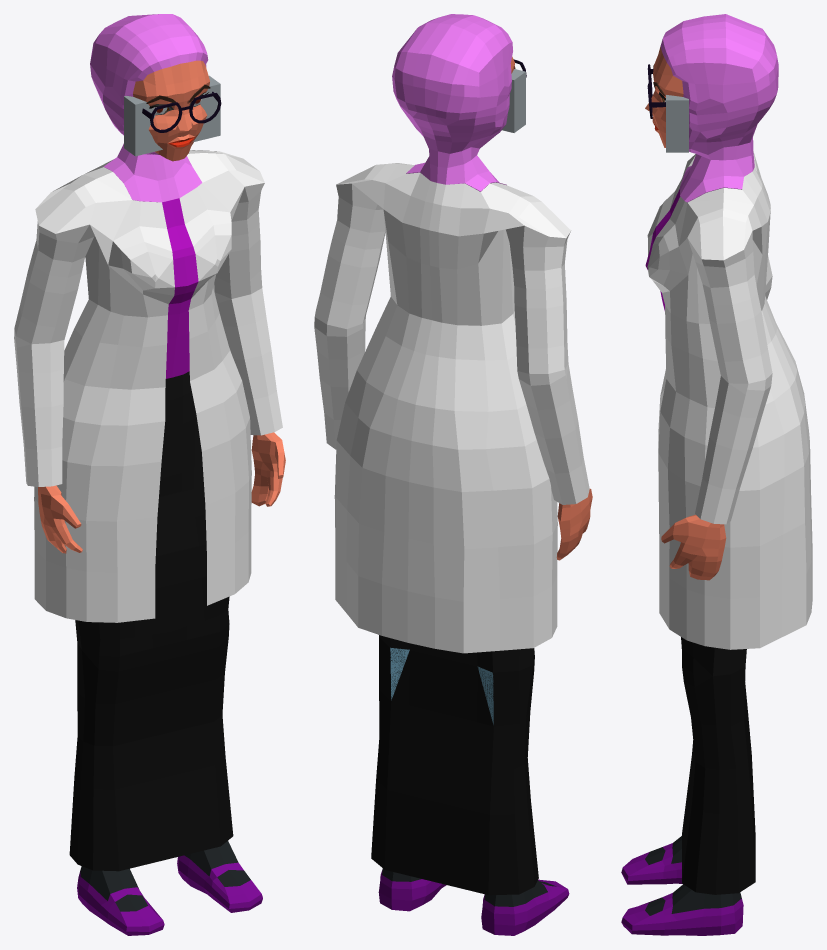
Rendered from ScientistFemale_B_Stand_Mask.fbx.
The picture shows the model from 3 angles, left to right: view 1: azimuth 30°, elevation 25°; view 2: azimuth 150°, elevation 25°; view 3: azimuth 270°, elevation 25°; orthographic projection. The views are drawn at different scales.
Visible parts, largest first — view 1: ScientistFemale_B_Stand_Mask; view 2: ScientistFemale_B_Stand_Mask; view 3: ScientistFemale_B_Stand_Mask.
Part boxes in pixels (x1=…): ScientistFemale_B_Stand_Mask: x1=14, y1=14, x2=285, y2=935; ScientistFemale_B_Stand_Mask: x1=314, y1=14, x2=592, y2=935; ScientistFemale_B_Stand_Mask: x1=621, y1=14, x2=812, y2=935.
Bounding box in the file's own units: 0.2819 × 0.9253 × 0.1823.
